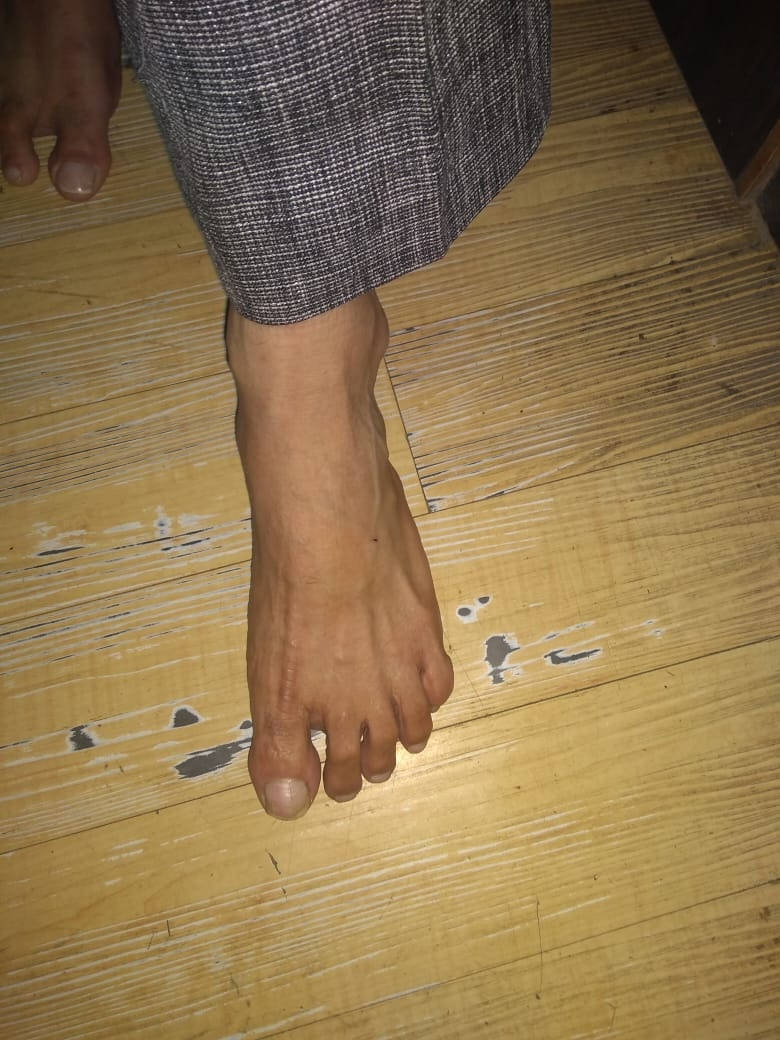feet: (158, 239, 473, 827)
